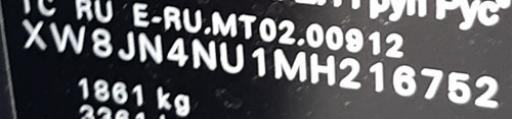letter: (48, 21, 88, 54), (271, 48, 307, 83), (309, 51, 337, 88), (336, 56, 364, 93), (472, 73, 500, 110), (390, 62, 418, 98), (190, 37, 218, 72), (138, 29, 164, 66), (418, 65, 444, 101), (446, 70, 472, 106), (218, 41, 246, 74), (22, 17, 48, 50), (90, 27, 116, 59), (116, 29, 138, 62), (166, 37, 188, 68), (367, 60, 385, 95), (251, 45, 269, 78)
